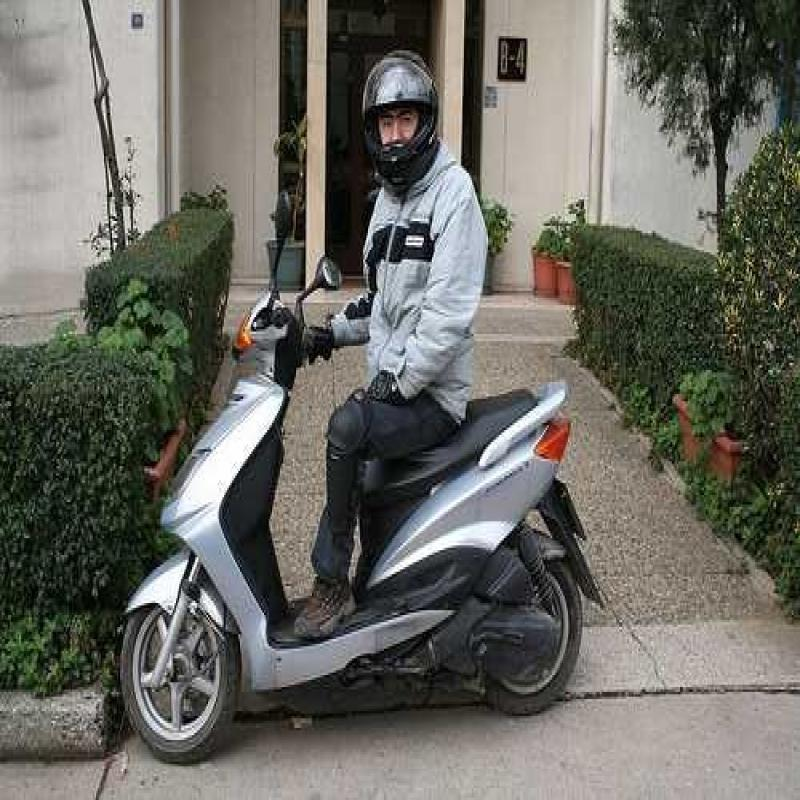bike: (118, 230, 603, 749)
